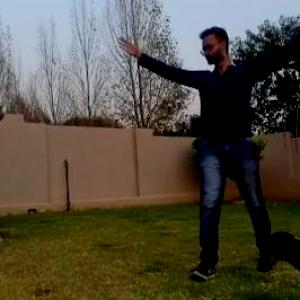takeoff: (64, 0, 300, 293)
